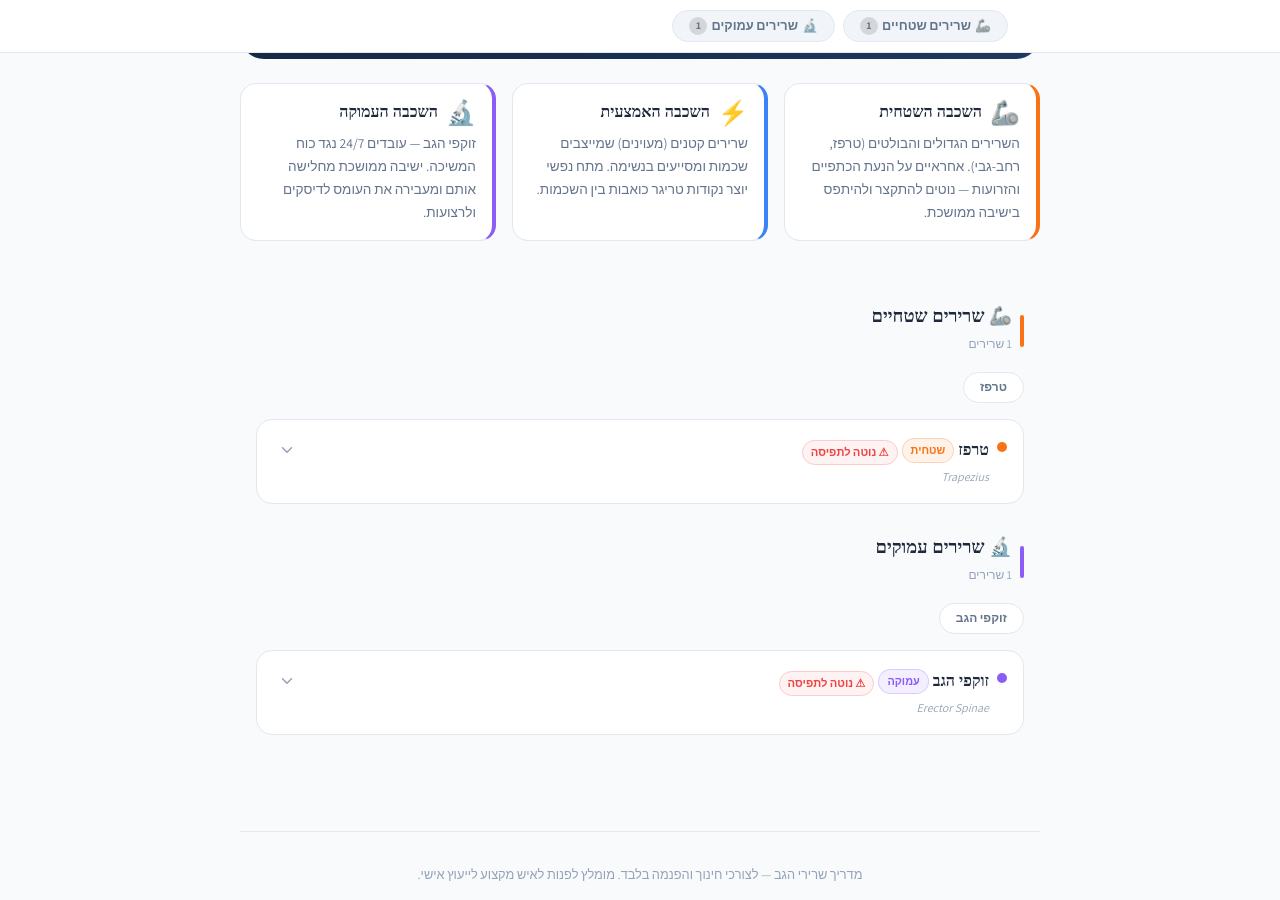
it: MuscleCard — expand / collapse › the card header div has aria-expanded=true when expanded
(page scrolled)
Click the heading "טרפז".
click(974, 450)  # box [958, 440, 989, 461]
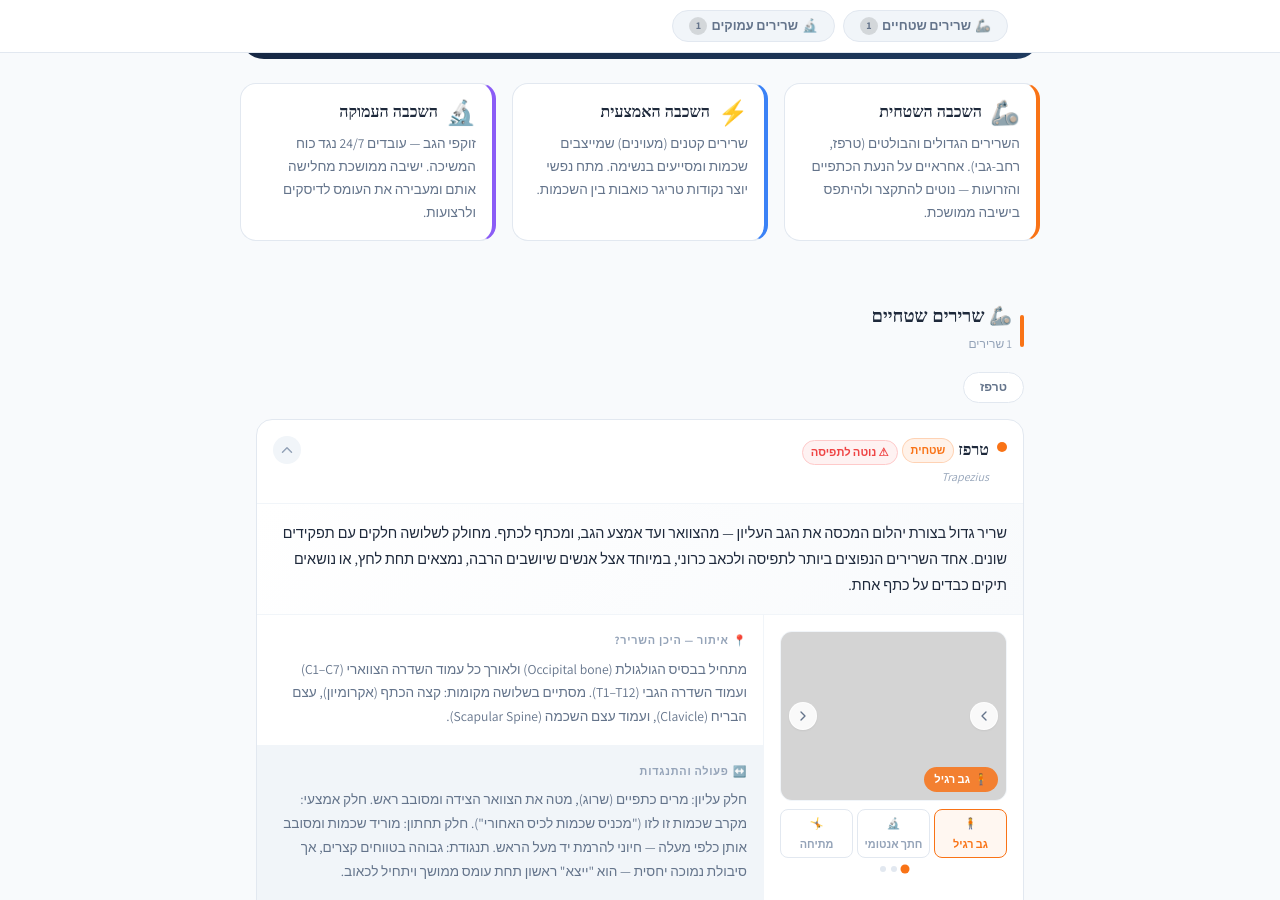
Check: the button "טרפז שטחית ⚠ נוטה לתפיסה Trapezius" is expanded, box [273, 436, 1007, 484]
